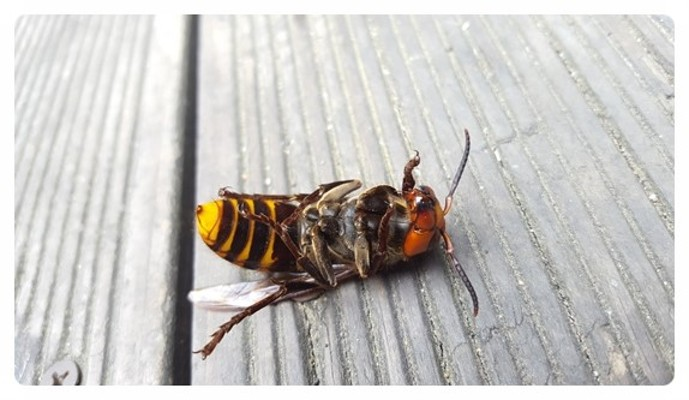asian_giant_hornet: (193, 150, 471, 311)
